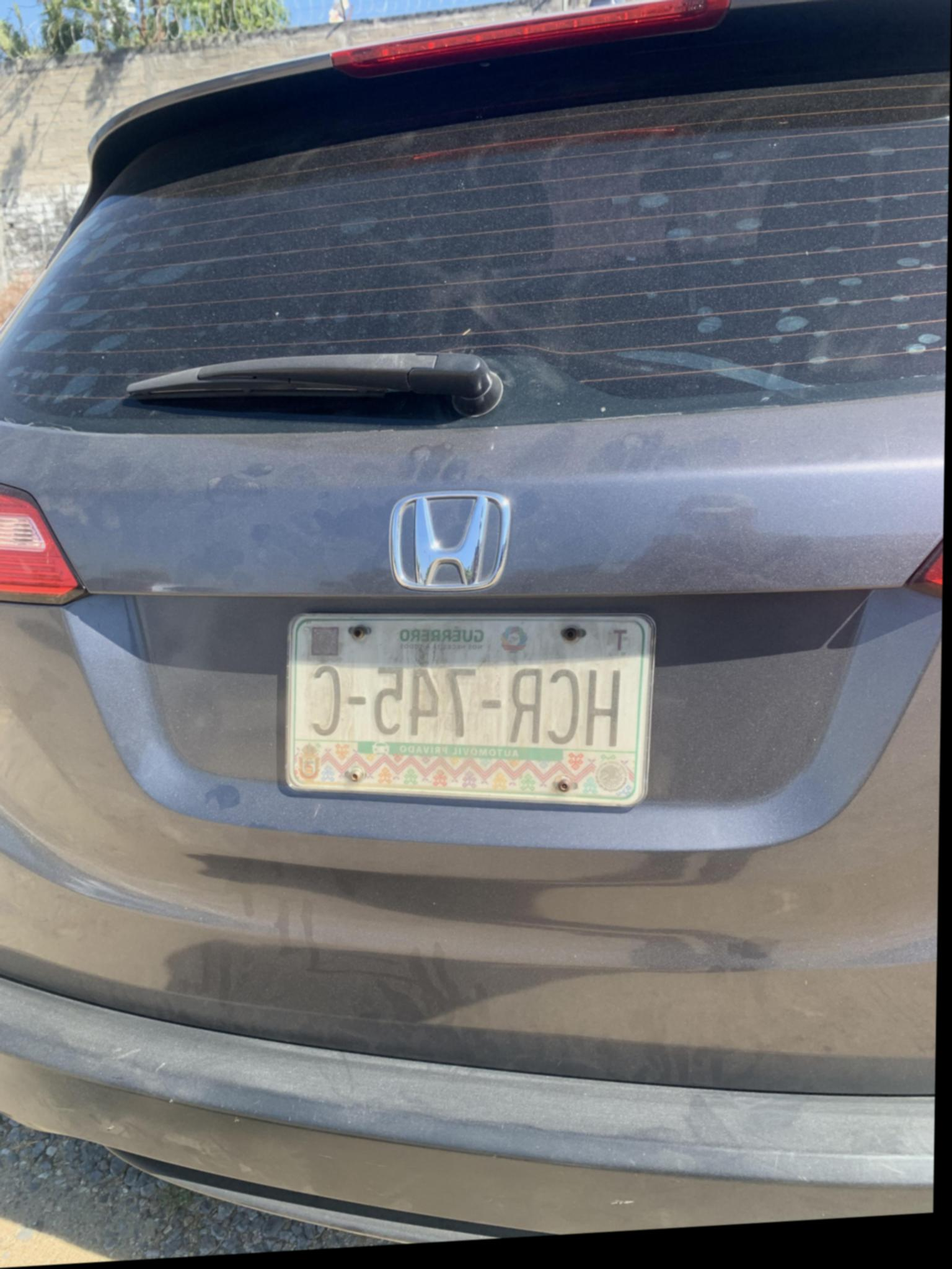License_Plate: (262, 599, 666, 840)
